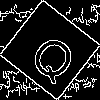Q: (25, 25, 86, 88)
